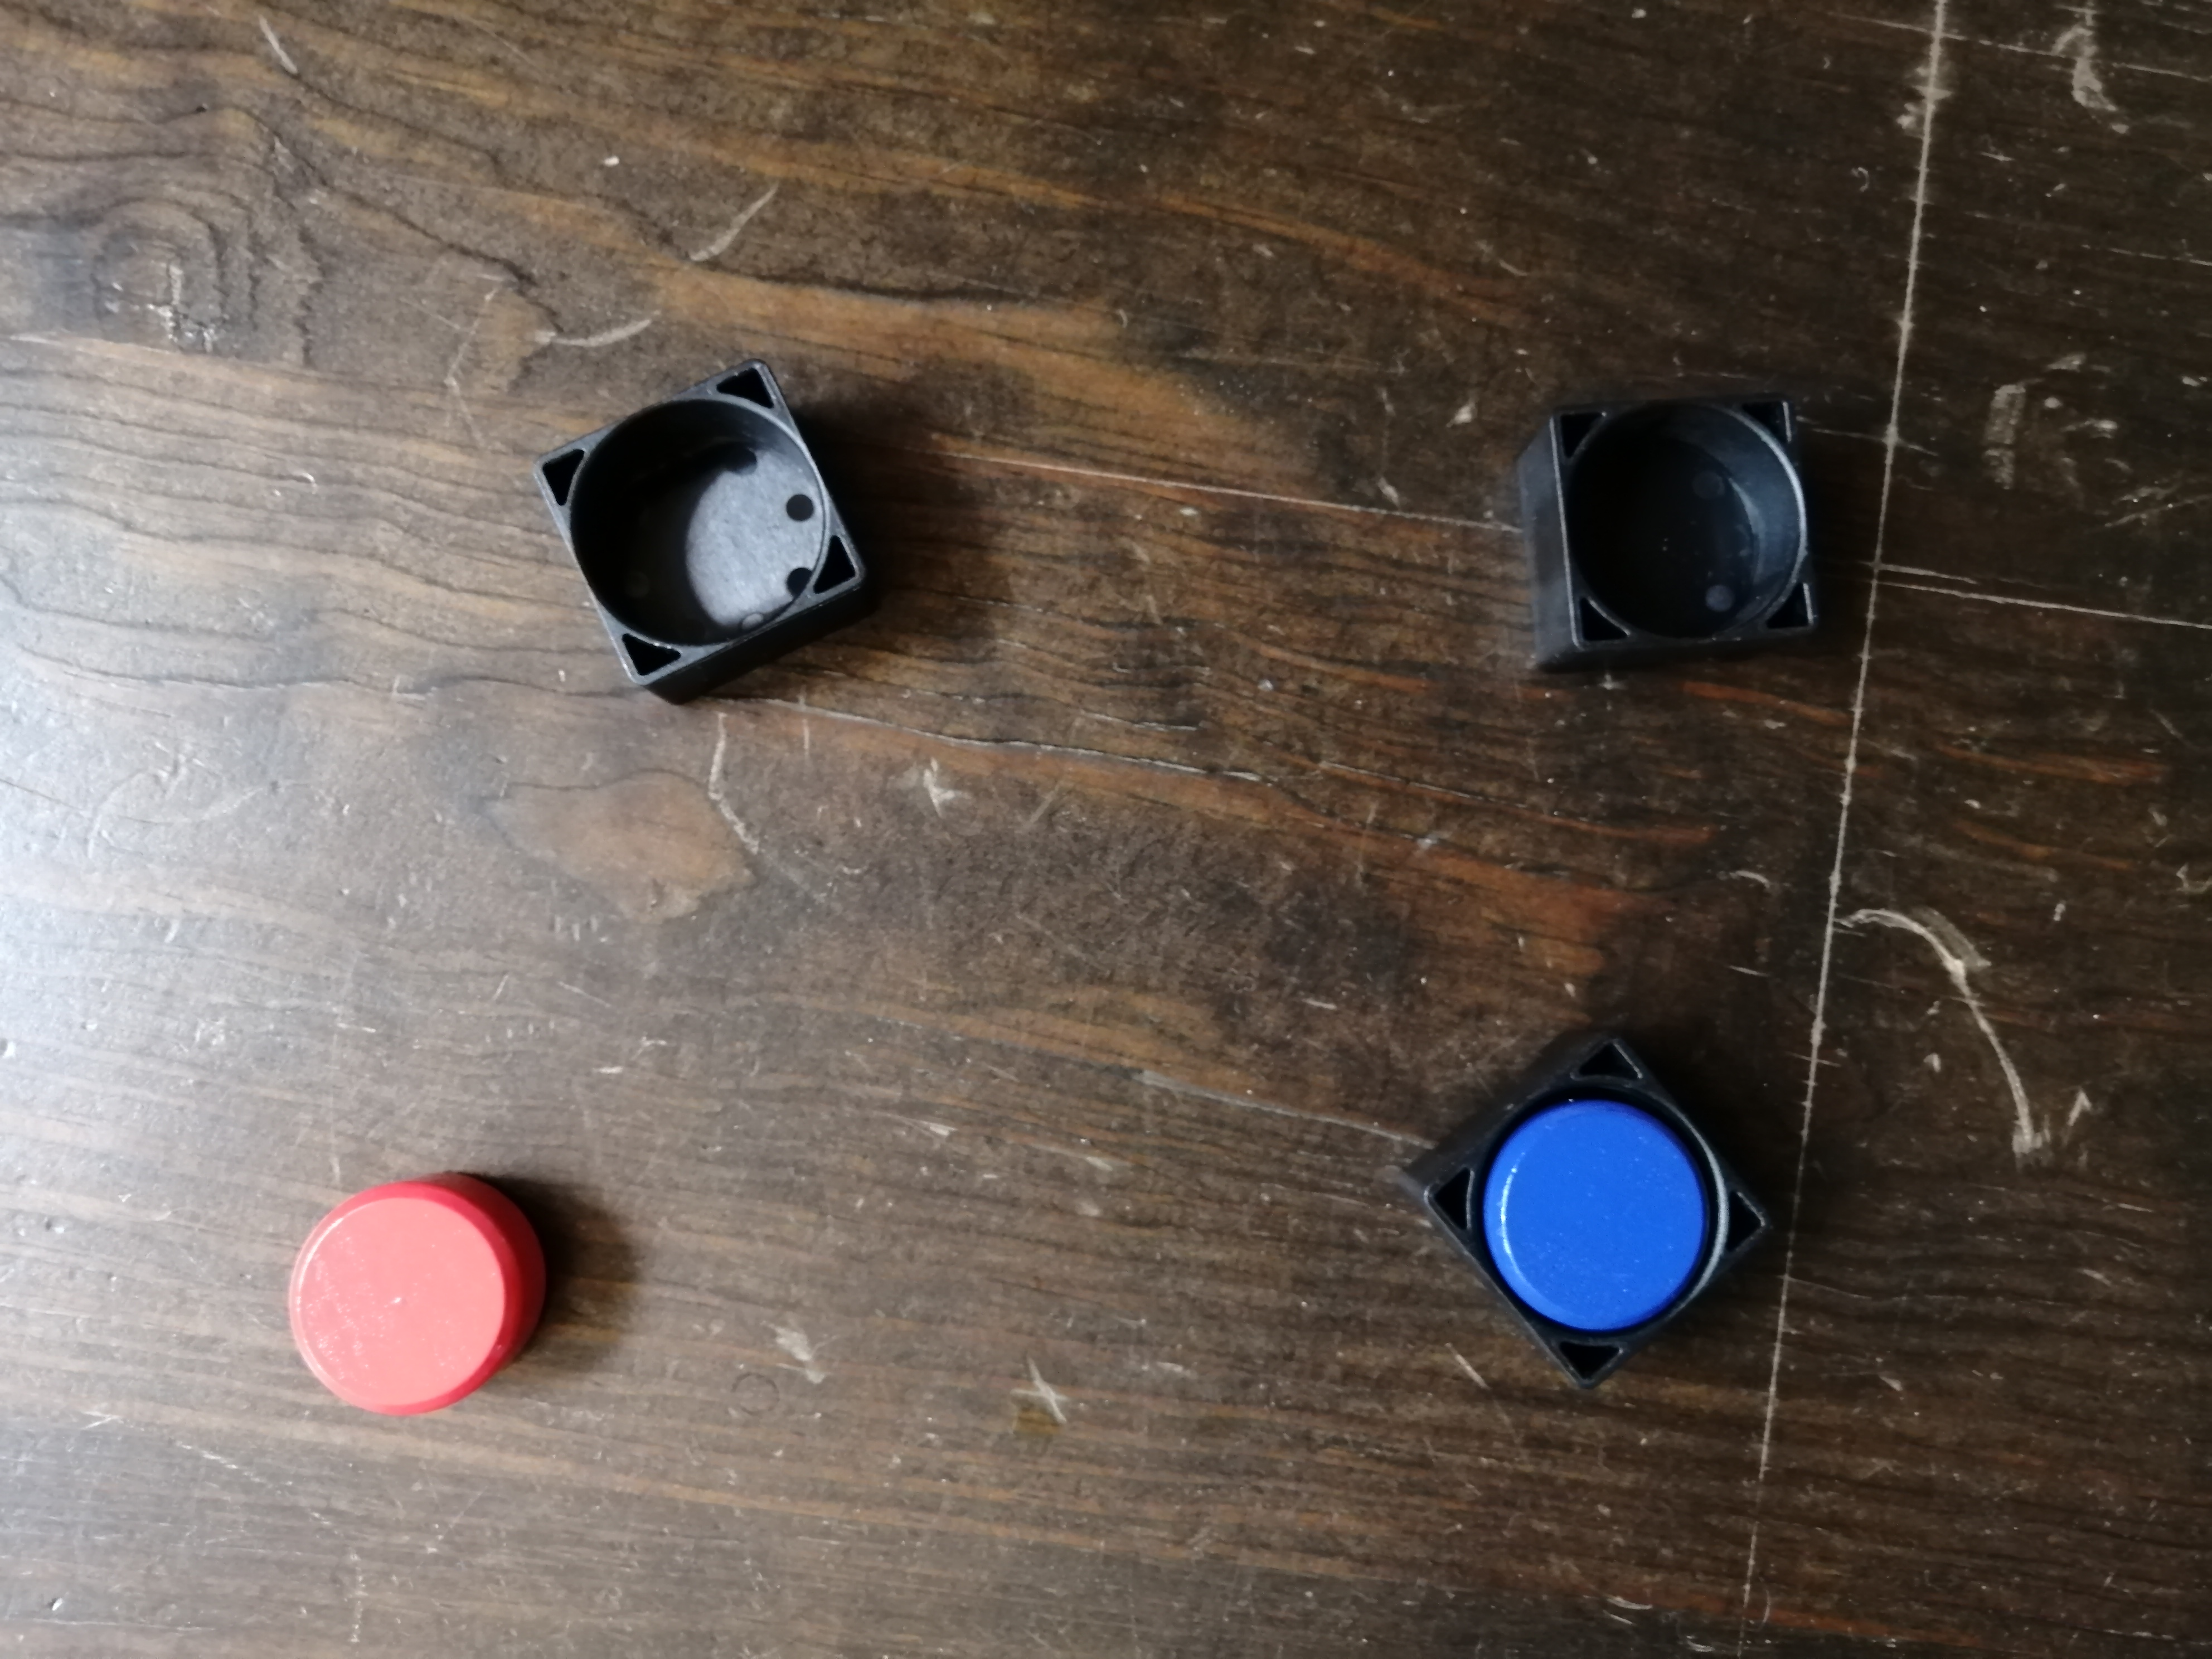Behaelter: (1404, 1042, 1766, 1389), (529, 357, 860, 690), (1522, 390, 1811, 655)
WerkStueck: (287, 1176, 543, 1419), (1487, 1091, 1705, 1331)
